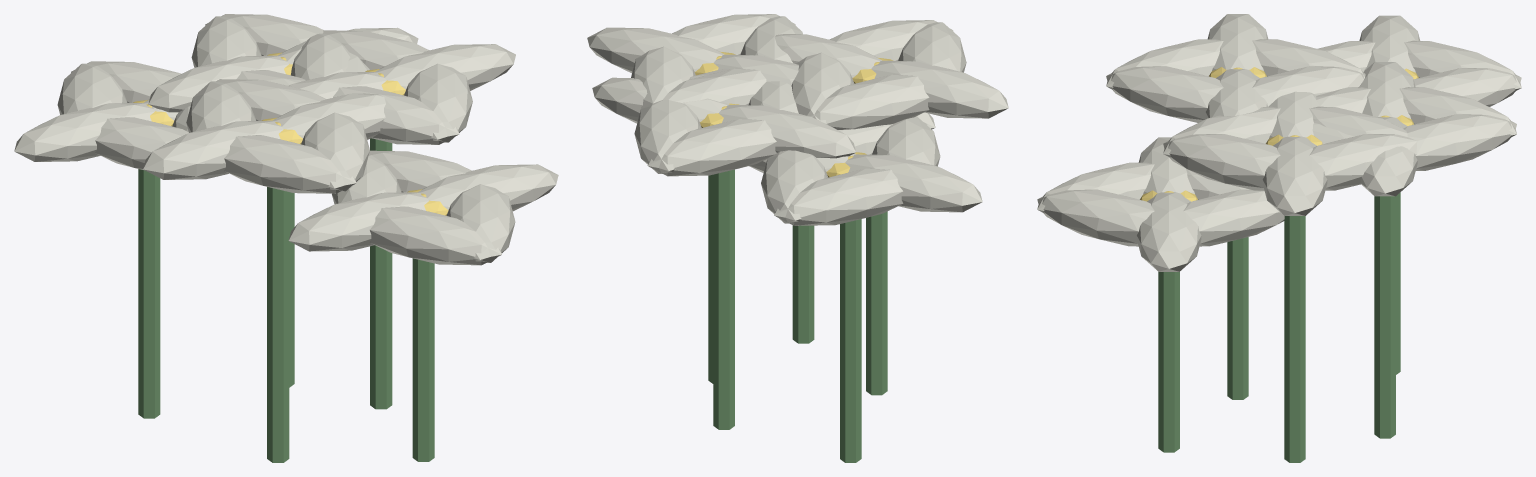
File: flower-cluster-a.glb
3 renders of one model, left to right at view 1: azimuth 30°, elevation 25°; view 2: azimuth 150°, elevation 25°; view 3: azimuth 270°, elevation 25°, orthographic. The views are drawn at different scales.
Visible parts, largest first — view 1: Stem_3, Stem_4, Flower_3_Petal_3, Flower_2_Petal_3, Stem_2, Flower_2_Petal_4, Flower_4_Petal_4, Flower_3_Petal_4, Stem_1, Flower_1_Petal_1, Flower_2_Petal_1, Flower_1_Petal_3 (+20 smaller); view 2: Stem_5, Stem_4, Flower_4_Petal_5, Flower_5_Petal_5, Flower_3_Petal_5, Flower_4_Petal_4, Flower_3_Petal_4, Stem_3, Flower_5_Petal_4, Flower_1_Petal_1, Flower_5_Petal_6, Flower_4_Petal_6 (+15 smaller); view 3: Stem_1, Stem_5, Flower_2_Petal_2, Flower_1_Petal_2, Flower_3_Petal_2, Flower_5_Petal_6, Stem_2, Flower_2_Petal_6, Flower_2_Petal_1, Flower_1_Petal_1, Stem_3, Flower_1_Petal_6 (+20 smaller).
Boxes of the visible parts, x1=… form: Stem_3: x1=267, y1=187, x2=289, y2=462; Stem_4: x1=138, y1=169, x2=160, y2=418; Flower_3_Petal_3: x1=224, y1=135, x2=356, y2=193; Flower_2_Petal_3: x1=370, y1=206, x2=501, y2=265; Stem_2: x1=412, y1=258, x2=434, y2=461; Flower_2_Petal_4: x1=288, y1=192, x2=428, y2=251; Flower_4_Petal_4: x1=14, y1=103, x2=154, y2=161; Flower_3_Petal_4: x1=143, y1=120, x2=283, y2=179; Stem_1: x1=370, y1=138, x2=392, y2=409; Flower_1_Petal_1: x1=375, y1=44, x2=515, y2=90; Flower_2_Petal_1: x1=418, y1=164, x2=558, y2=211; Flower_1_Petal_3: x1=333, y1=86, x2=459, y2=144; Stem_5: x1=713, y1=169, x2=734, y2=429; Stem_4: x1=840, y1=219, x2=861, y2=462; Flower_4_Petal_5: x1=774, y1=168, x2=903, y2=225; Flower_5_Petal_5: x1=647, y1=119, x2=776, y2=176; Flower_3_Petal_5: x1=809, y1=74, x2=929, y2=129; Flower_4_Petal_4: x1=845, y1=154, x2=982, y2=212; Flower_3_Petal_4: x1=871, y1=60, x2=1008, y2=118; Stem_3: x1=866, y1=211, x2=887, y2=395; Flower_5_Petal_4: x1=719, y1=105, x2=855, y2=158; Flower_1_Petal_1: x1=587, y1=27, x2=724, y2=73; Flower_5_Petal_6: x1=634, y1=99, x2=701, y2=173; Flower_4_Petal_6: x1=761, y1=150, x2=827, y2=223; Stem_1: x1=1284, y1=216, x2=1305, y2=462; Stem_5: x1=1374, y1=196, x2=1395, y2=438; Flower_2_Petal_2: x1=1037, y1=189, x2=1154, y2=246; Flower_1_Petal_2: x1=1163, y1=134, x2=1280, y2=190; Flower_3_Petal_2: x1=1106, y1=66, x2=1223, y2=122; Flower_5_Petal_6: x1=1403, y1=114, x2=1516, y2=170; Stem_2: x1=1158, y1=272, x2=1179, y2=452; Flower_2_Petal_6: x1=1183, y1=189, x2=1284, y2=246; Flower_2_Petal_1: x1=1136, y1=192, x2=1201, y2=271; Flower_1_Petal_1: x1=1262, y1=136, x2=1327, y2=215; Stem_3: x1=1227, y1=237, x2=1248, y2=399; Flower_1_Petal_6: x1=1309, y1=134, x2=1417, y2=190.
Bounding box in the file's own units: 1.04 × 0.7522 × 0.9864.
